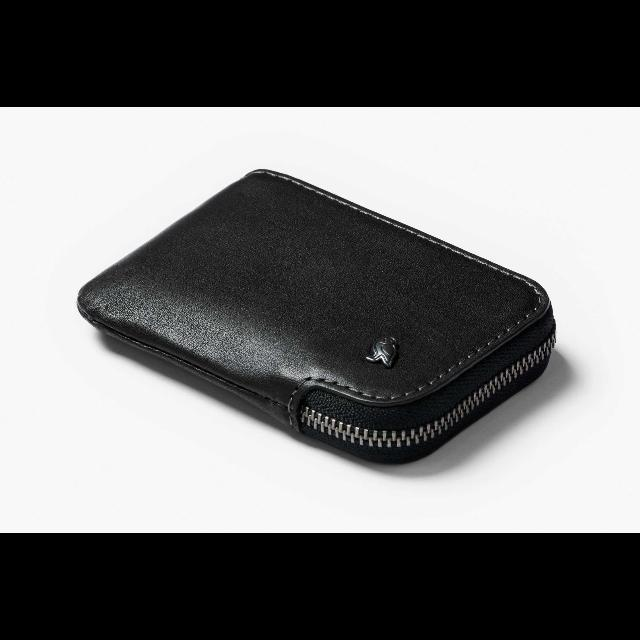wallet: (76, 165, 560, 467)
